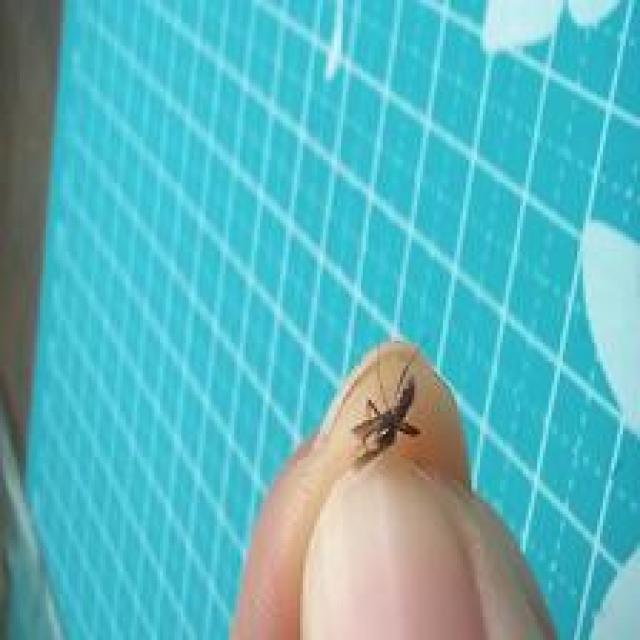Aedes albopictus: (350, 362, 421, 464)
